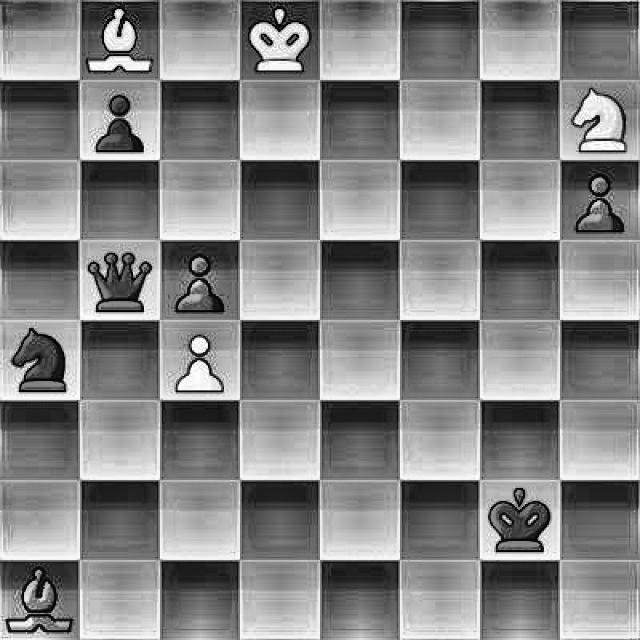Black Knight: (0, 315, 77, 397)
black bishop: (5, 545, 75, 640)
black king: (484, 483, 555, 556)
black pawn: (89, 82, 152, 160), (569, 165, 631, 236), (175, 251, 228, 321)
black queen: (82, 246, 156, 317)
white bishop: (88, 2, 152, 78)
white king: (246, 3, 312, 80)
white pawn: (163, 318, 230, 402)
whiteknight: (572, 82, 632, 156)
